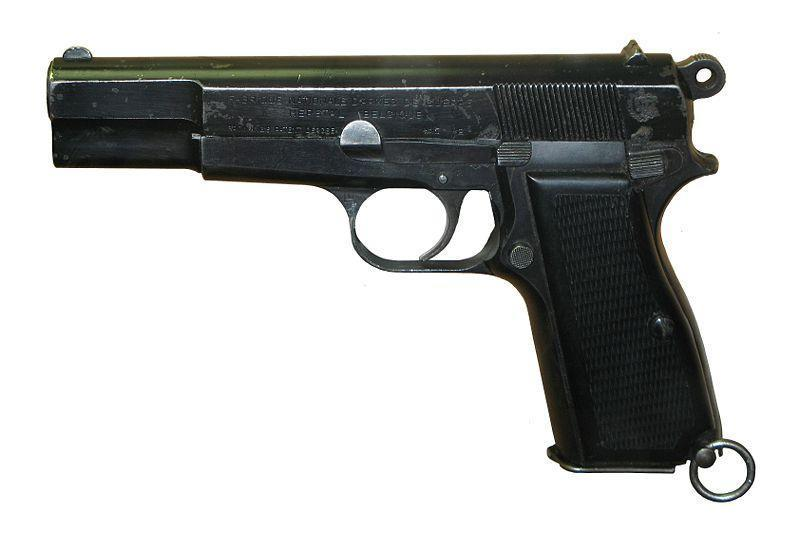gun: (29, 24, 729, 472)
